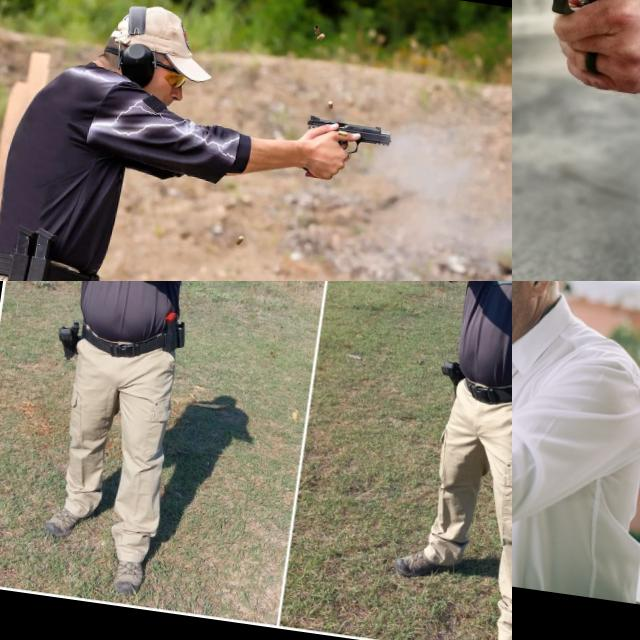handgun: (512, 0, 640, 76), (299, 110, 398, 162), (512, 281, 593, 333), (342, 281, 416, 307), (149, 281, 185, 301)
